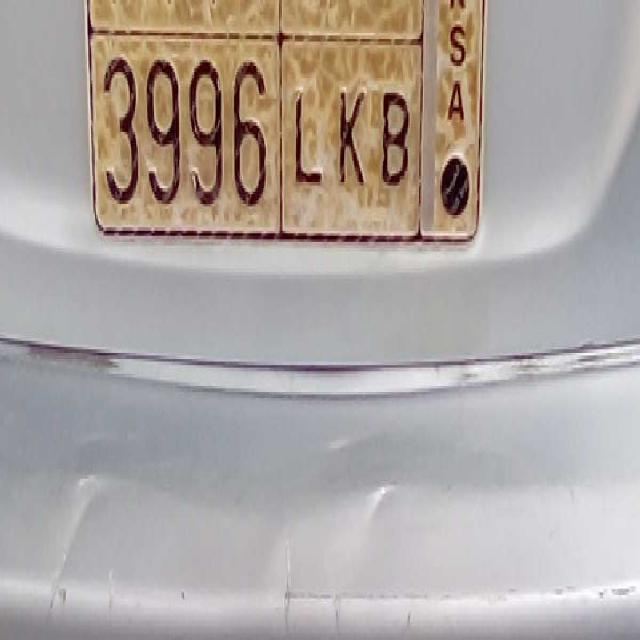license_plate: (86, 27, 422, 246)
